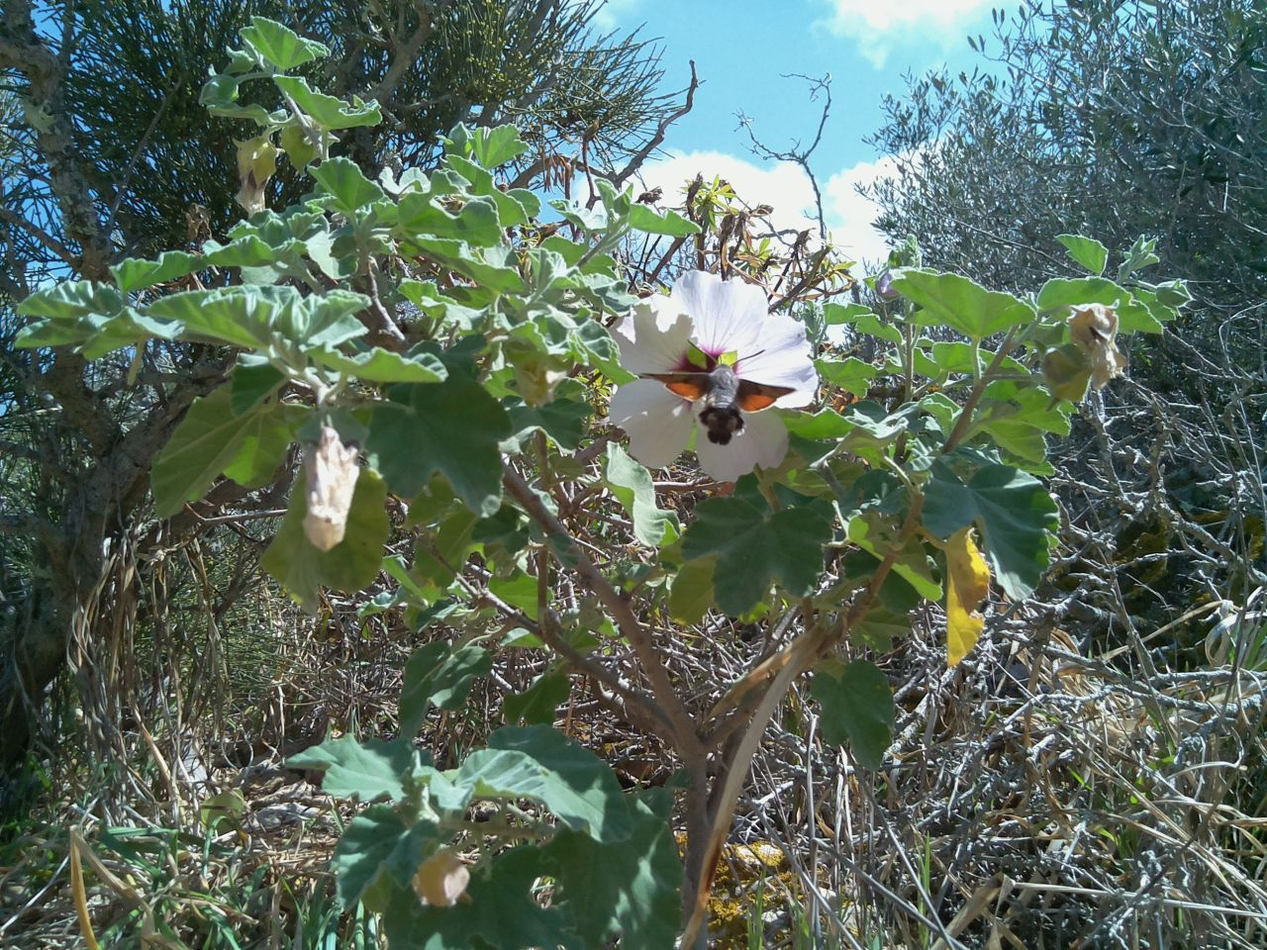Butterfly: (637, 336, 793, 440)
